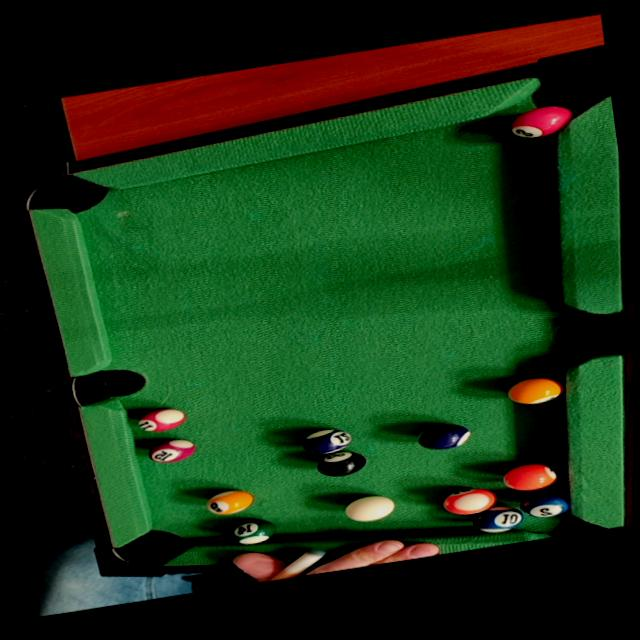cue ball: (339, 490, 399, 525)
other: (496, 455, 569, 496), (505, 99, 576, 141), (409, 418, 476, 455), (436, 483, 499, 519), (503, 371, 564, 408), (516, 483, 576, 520), (467, 501, 526, 537), (297, 423, 356, 458), (311, 447, 369, 480), (226, 513, 282, 547), (144, 433, 200, 467), (134, 403, 189, 435), (203, 485, 255, 516)
